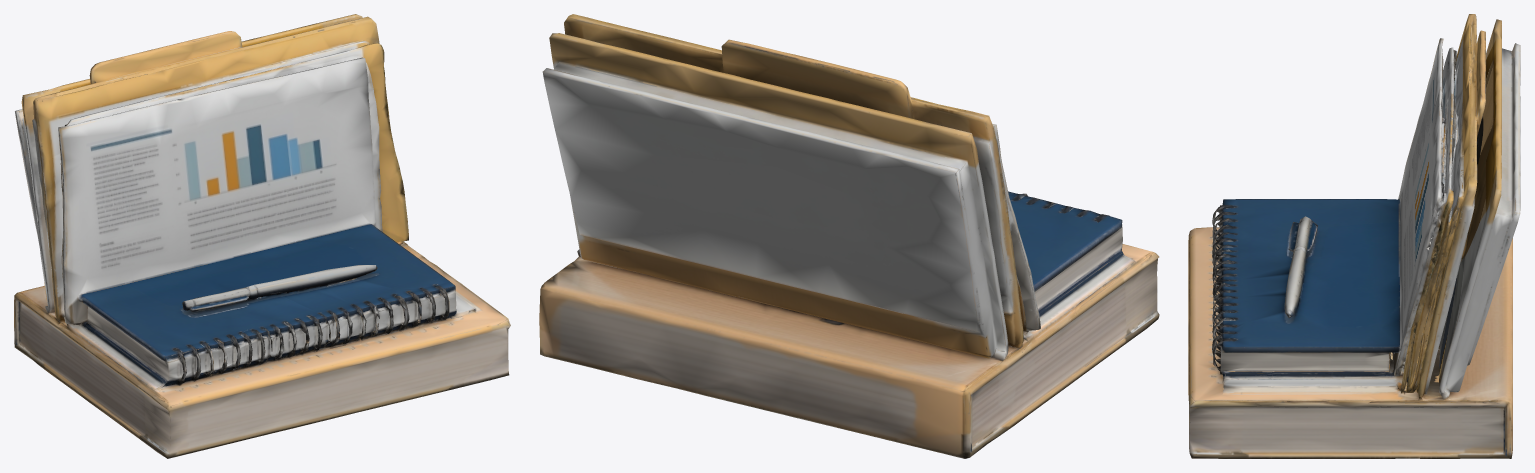
File: belgebaake.fbx
3 views of the same model, side by side, from view 1: azimuth 30°, elevation 25°; view 2: azimuth 150°, elevation 25°; view 3: azimuth 270°, elevation 25° (orthographic). The views are drawn at different scales.
Parts seen in each view (by area): view 1: belge_low; view 2: belge_low; view 3: belge_low.
Part boxes in pixels (x1,y1,x2,y2): belge_low: [14, 14, 510, 458]; belge_low: [539, 14, 1159, 458]; belge_low: [1188, 14, 1520, 458].
Bounding box in the file's own units: 1.91 × 1.46 × 1.52.
